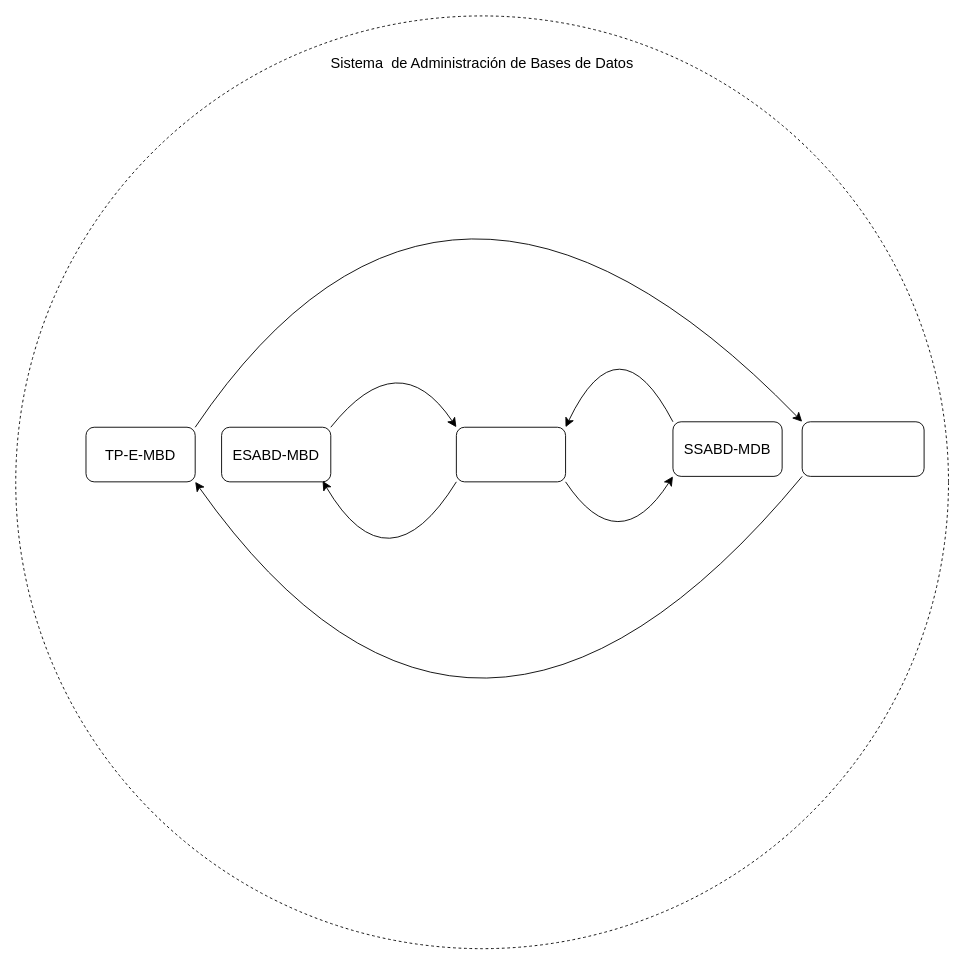
Some shapes in this 965 by 965 pixel diagram are drawn without their labels. The centre of each missing label's shape, as x and y in pixels:
"PSABD-MBD" goes at point 510,454.
"T-SSADBD-MBD" goes at point 862,448.
